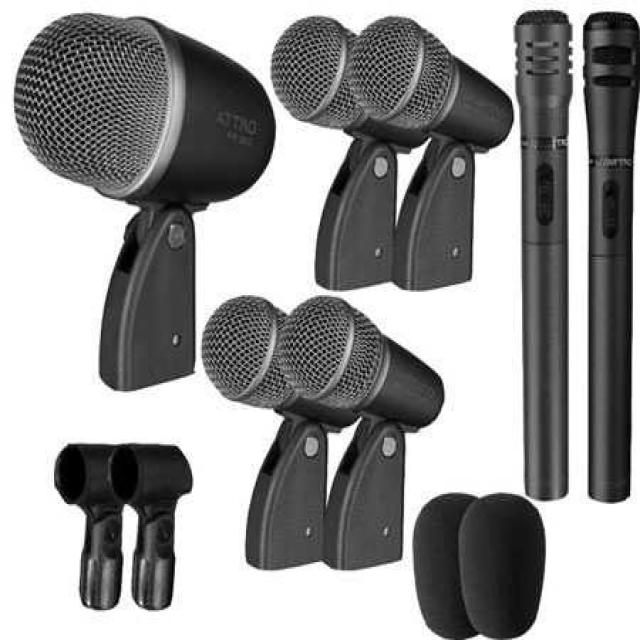microphone: (16, 13, 269, 384), (204, 294, 441, 428), (514, 10, 572, 498), (582, 13, 636, 498), (339, 17, 513, 154), (270, 17, 358, 134)
